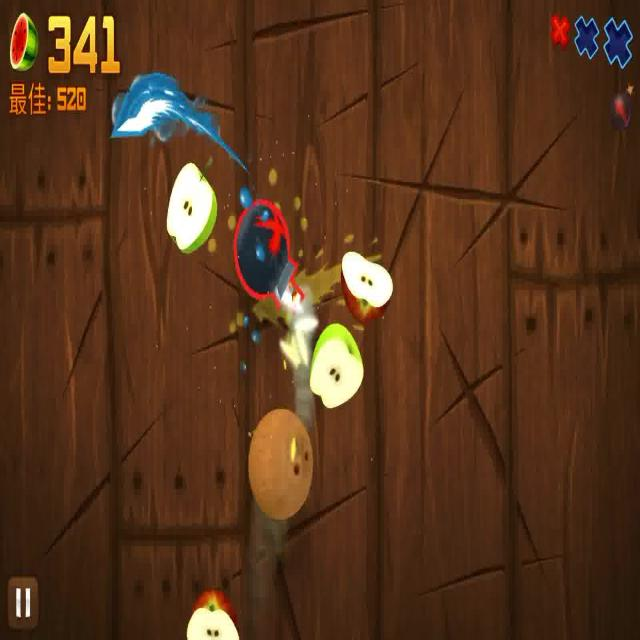bomb: (228, 186, 310, 322)
fruit: (243, 391, 317, 518), (327, 231, 404, 315), (304, 318, 372, 413), (163, 157, 221, 260), (164, 565, 242, 640)
